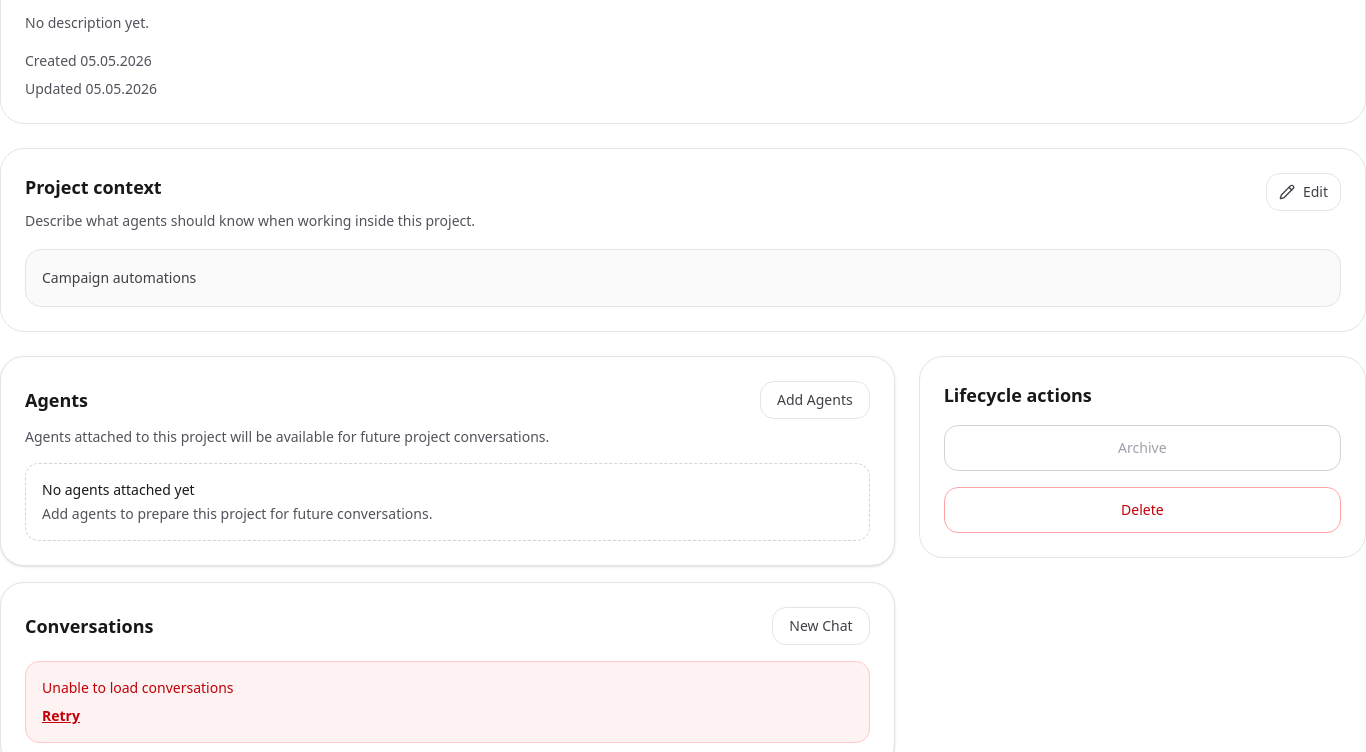
Scenario: AgentProjectDetailsPage › shows conversations load error and retries
(page scrolled)
Expected: the text "Unable to load conversations" is shown, [42,678,234,697]
Step 1. Click the button "Retry" → (61, 716), box [42,706,80,726]
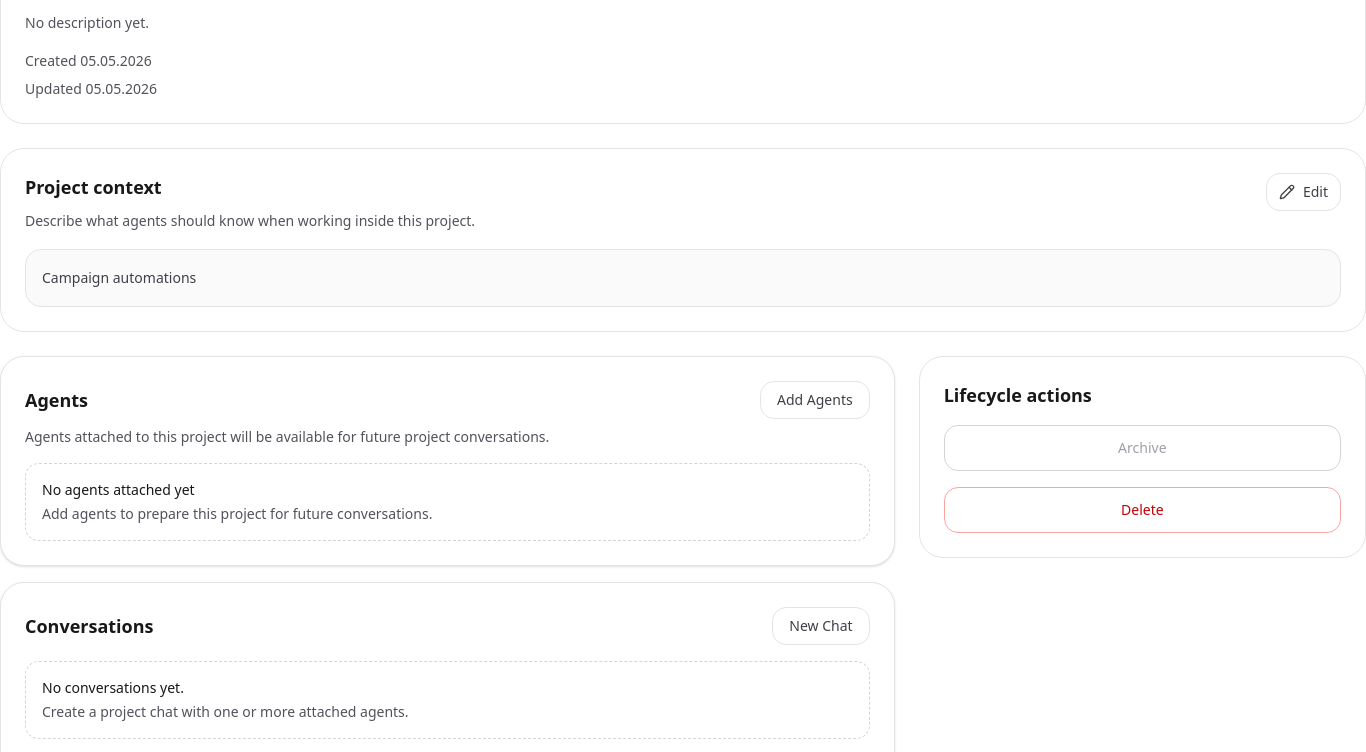
Expected: the text "No conversations yet." is shown, [42,678,184,697]
